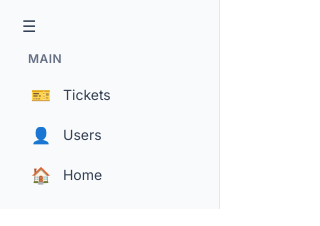
Test case: AppSidebar › collapsed state exposes the label via role="tooltip" (AC5)
Click the button named "Collapse sidebar" at coordinates (29, 26), box [16,16,42,37]
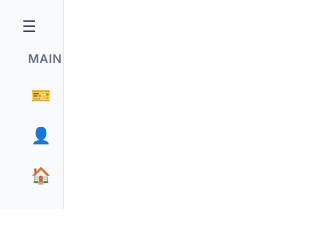
expect the tooltip "Home" is shown: met, box [55,161,113,189]
